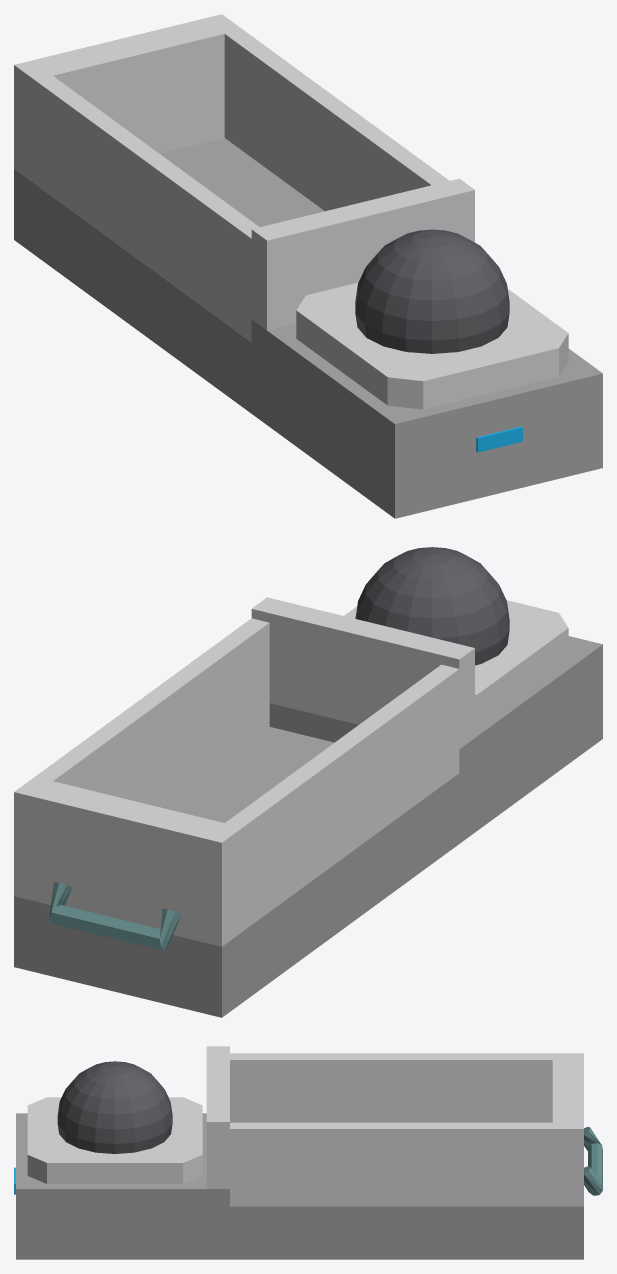
File: vge_compact_biosculpter_pod.obj
3 views of the same model, one above another, from view 1: azimuth 30°, elevation 25°; view 2: azimuth 150°, elevation 25°; view 3: azimuth 270°, elevation 25° (orthographic). The views are drawn at different scales.
Visible parts, largest first — view 1: vge_compact_biosculpter_pod_0, vge_compact_biosculpter_pod_4, vge_compact_biosculpter_pod_1, vge_compact_biosculpter_pod_5, vge_compact_biosculpter_pod_6, vge_compact_biosculpter_pod_2, vge_compact_biosculpter_pod_7, vge_compact_biosculpter_pod_3, vge_compact_biosculpter_pod_9; view 2: vge_compact_biosculpter_pod_1, vge_compact_biosculpter_pod_6, vge_compact_biosculpter_pod_4, vge_compact_biosculpter_pod_5, vge_compact_biosculpter_pod_0, vge_compact_biosculpter_pod_7, vge_compact_biosculpter_pod_3, vge_compact_biosculpter_pod_2, vge_compact_biosculpter_pod_8; view 3: vge_compact_biosculpter_pod_5, vge_compact_biosculpter_pod_4, vge_compact_biosculpter_pod_1, vge_compact_biosculpter_pod_0, vge_compact_biosculpter_pod_2, vge_compact_biosculpter_pod_3, vge_compact_biosculpter_pod_6, vge_compact_biosculpter_pod_7, vge_compact_biosculpter_pod_8.
Boxes of the visible parts, bbox=[...] form: vge_compact_biosculpter_pod_0: bbox=[251, 319, 602, 518]; vge_compact_biosculpter_pod_4: bbox=[35, 76, 259, 342]; vge_compact_biosculpter_pod_1: bbox=[14, 138, 324, 413]; vge_compact_biosculpter_pod_5: bbox=[224, 29, 449, 211]; vge_compact_biosculpter_pod_6: bbox=[14, 14, 242, 183]; vge_compact_biosculpter_pod_2: bbox=[296, 282, 568, 409]; vge_compact_biosculpter_pod_7: bbox=[251, 178, 474, 330]; vge_compact_biosculpter_pod_3: bbox=[355, 229, 509, 353]; vge_compact_biosculpter_pod_9: bbox=[476, 426, 522, 452]; vge_compact_biosculpter_pod_1: bbox=[14, 726, 459, 1017]; vge_compact_biosculpter_pod_6: bbox=[14, 777, 242, 946]; vge_compact_biosculpter_pod_4: bbox=[225, 664, 459, 931]; vge_compact_biosculpter_pod_5: bbox=[35, 618, 269, 806]; vge_compact_biosculpter_pod_0: bbox=[269, 636, 602, 843]; vge_compact_biosculpter_pod_7: bbox=[251, 597, 474, 748]; vge_compact_biosculpter_pod_3: bbox=[355, 547, 509, 665]; vge_compact_biosculpter_pod_2: bbox=[344, 600, 568, 723]; vge_compact_biosculpter_pod_8: bbox=[49, 882, 180, 950]; vge_compact_biosculpter_pod_5: bbox=[230, 1122, 552, 1206]; vge_compact_biosculpter_pod_4: bbox=[230, 1053, 552, 1122]; vge_compact_biosculpter_pod_1: bbox=[230, 1206, 583, 1259]; vge_compact_biosculpter_pod_0: bbox=[16, 1113, 229, 1259]; vge_compact_biosculpter_pod_2: bbox=[27, 1097, 202, 1183]; vge_compact_biosculpter_pod_3: bbox=[57, 1061, 172, 1153]; vge_compact_biosculpter_pod_6: bbox=[552, 1053, 583, 1206]; vge_compact_biosculpter_pod_7: bbox=[206, 1046, 229, 1188]; vge_compact_biosculpter_pod_8: bbox=[584, 1126, 602, 1195].
Size of the model in its own units: 0.92 by 0.88 by 3.03.
